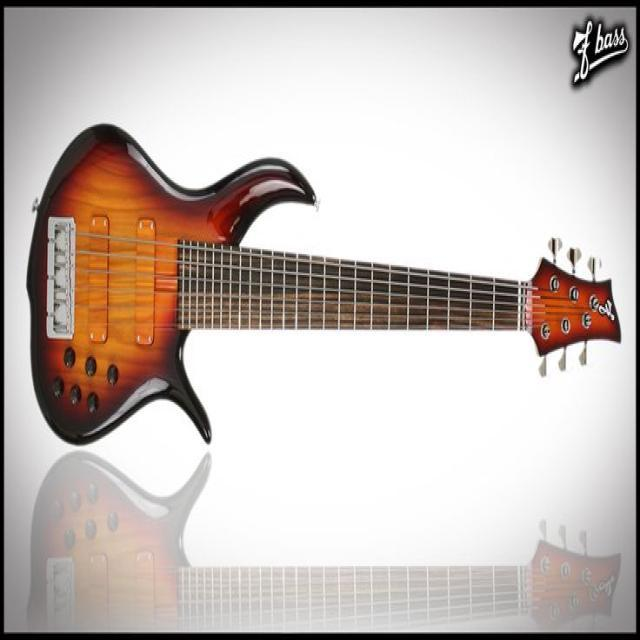bass: (28, 125, 619, 443)
